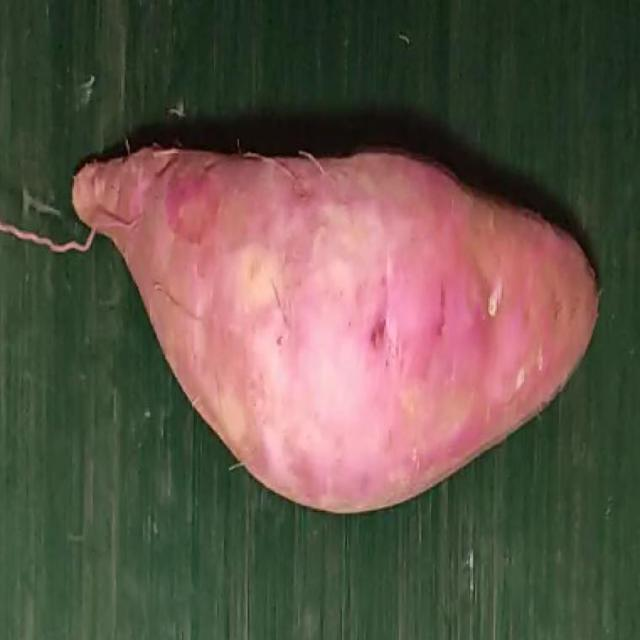Sweet Potato: (71, 147, 600, 517)
